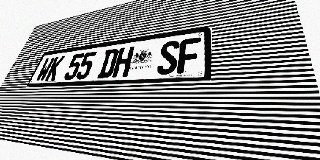5: (75, 51, 97, 80), (63, 53, 85, 80)
D: (97, 48, 120, 78)
F: (177, 37, 201, 74)
H: (112, 46, 135, 77)
K: (44, 56, 65, 81)
S: (156, 40, 180, 75)
W: (34, 57, 55, 82)
